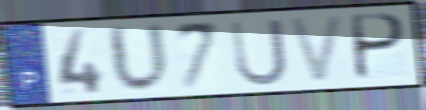4: (54, 26, 109, 97)
7: (175, 18, 221, 93)
P: (352, 12, 408, 83)
U: (105, 20, 173, 96), (228, 17, 291, 89)
V: (286, 13, 347, 86)
